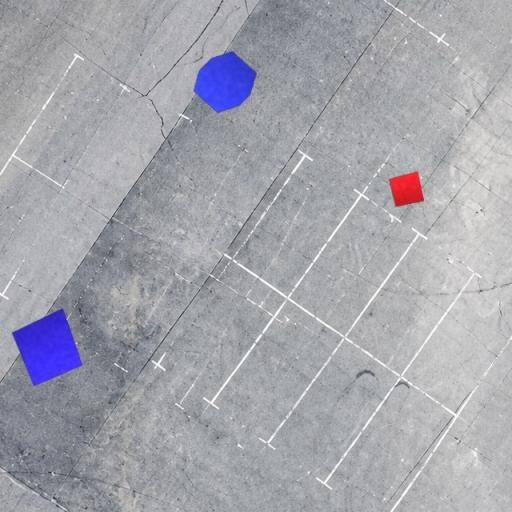BLUE_SQUARE: (11, 307, 83, 387)
RED_SQUARE: (389, 170, 425, 208)
